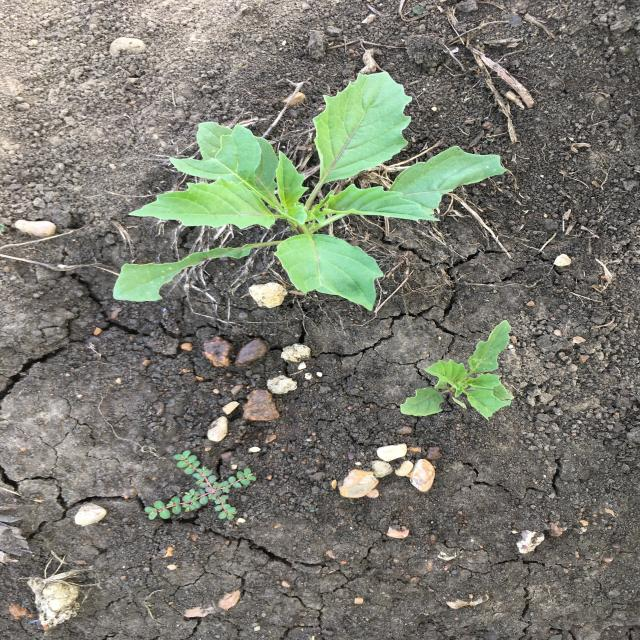CutleafGroundcherry: (108, 70, 512, 315), (397, 318, 517, 423)
SpottedSpurge: (142, 450, 260, 521)
